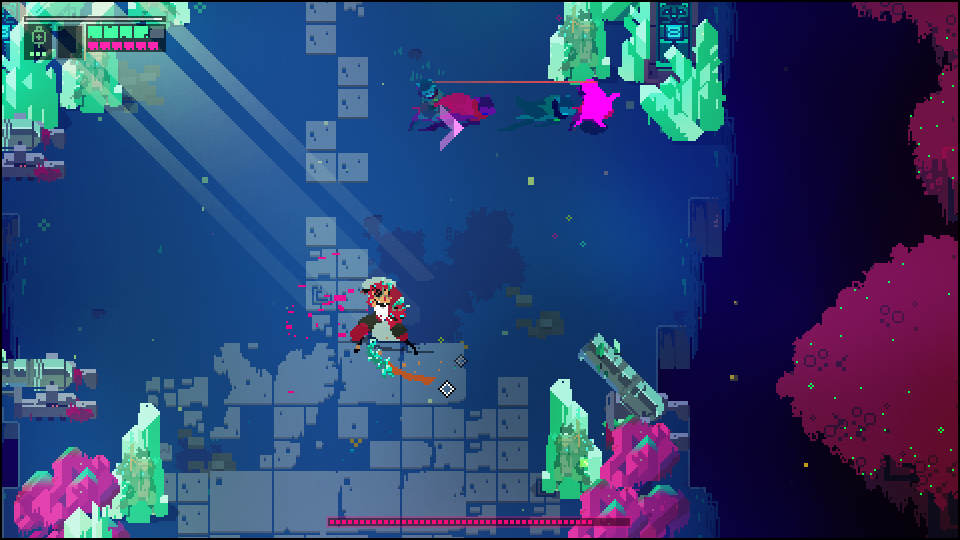hanged_man: (350, 270, 421, 386)
player: (574, 78, 622, 132)
